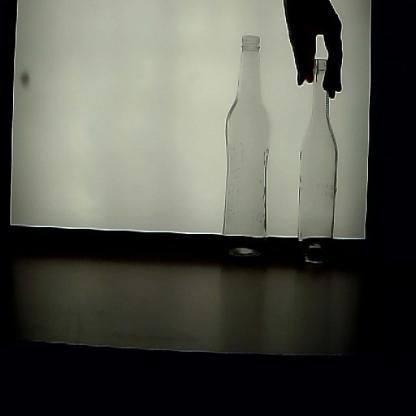Can: (220, 36, 274, 262), (298, 57, 338, 269)
